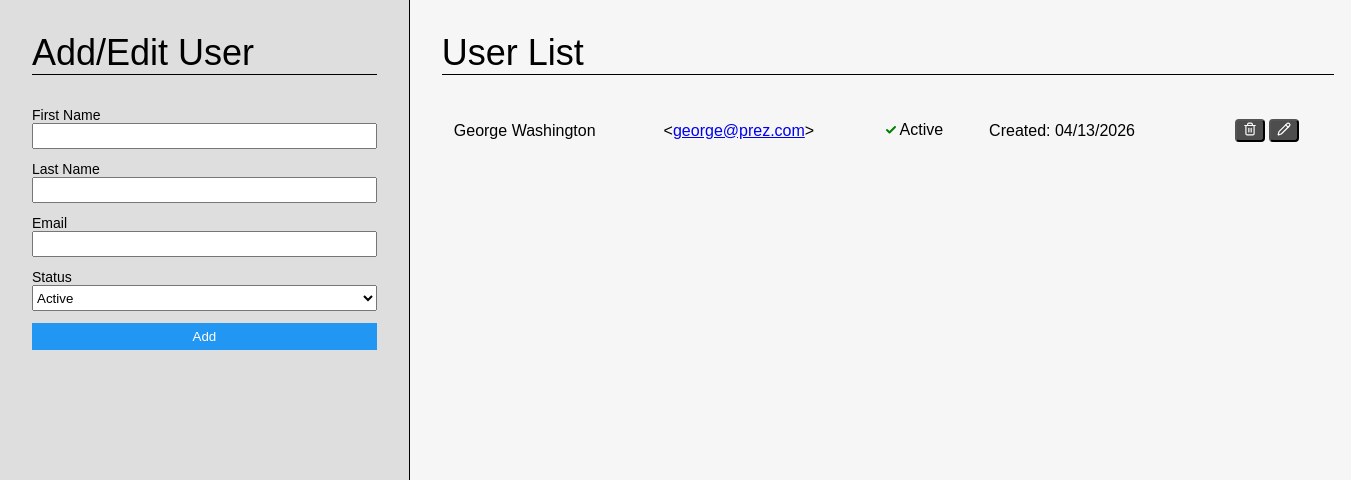
Test: UserList › should edit a user
Click the button named "Edit user" at {"x": 1284, "y": 130}, box [1268,119,1298,142]
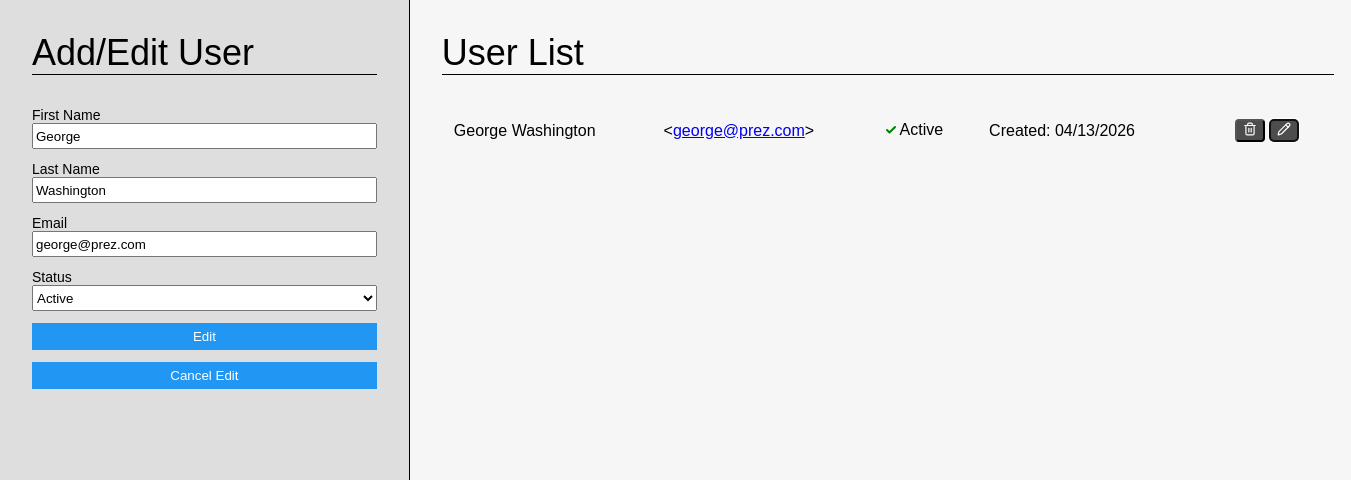
Replace the text in the field labelled "First Name" with "Denzel" at {"x": 204, "y": 136}, box [32,123,377,149]
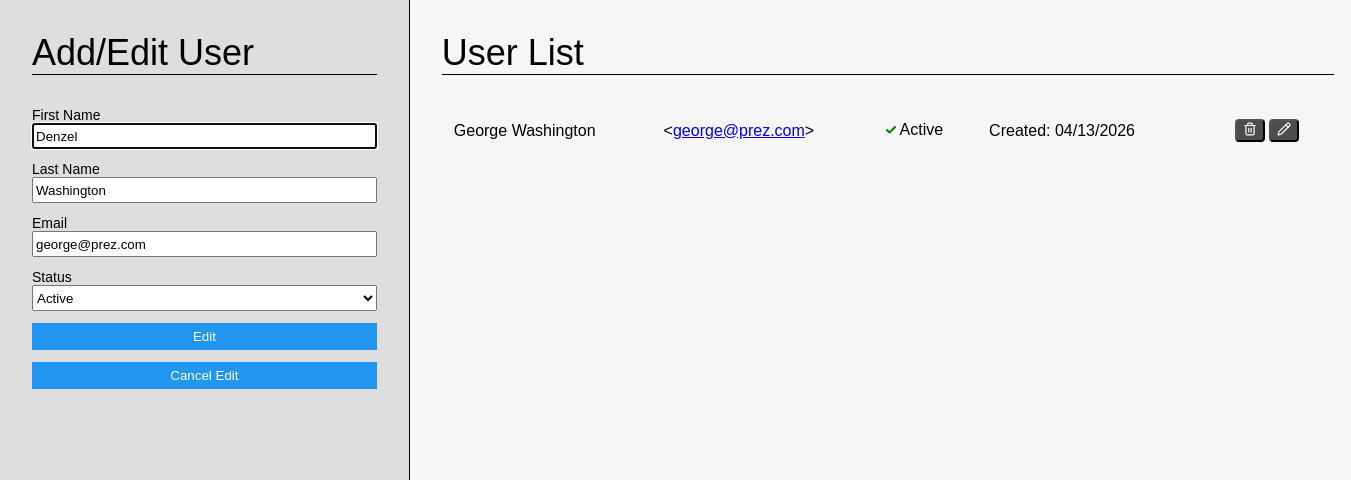
Click the button "Edit" at {"x": 204, "y": 336}, box [32,323,377,350]
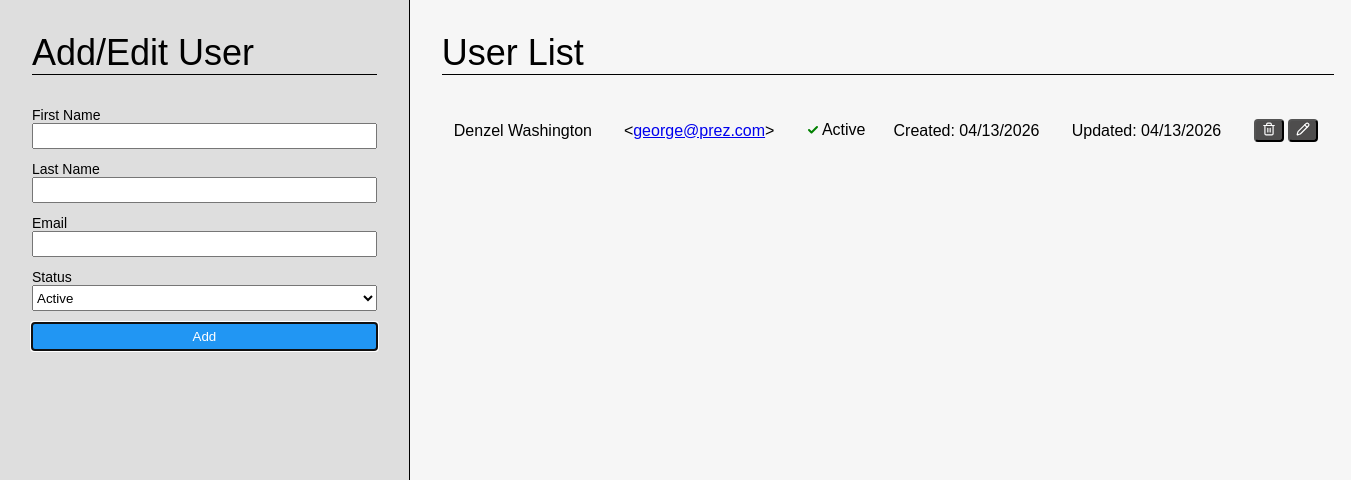
Now the text "Denzel Washington" is shown, box [442,107,612,154]
Now the text "George Washington" is gone
